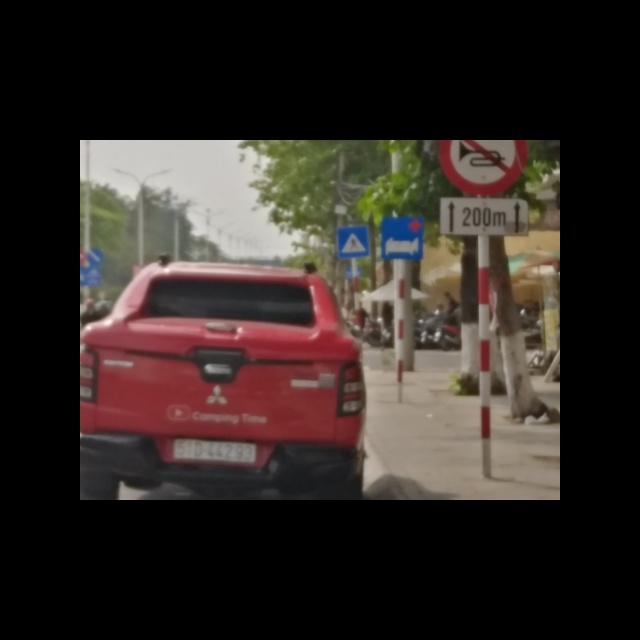Bệnh viện: (382, 219, 423, 259)
Cấm bấm còi: (439, 140, 530, 194)
Đường dành cho người đi bộ: (337, 227, 369, 258)
